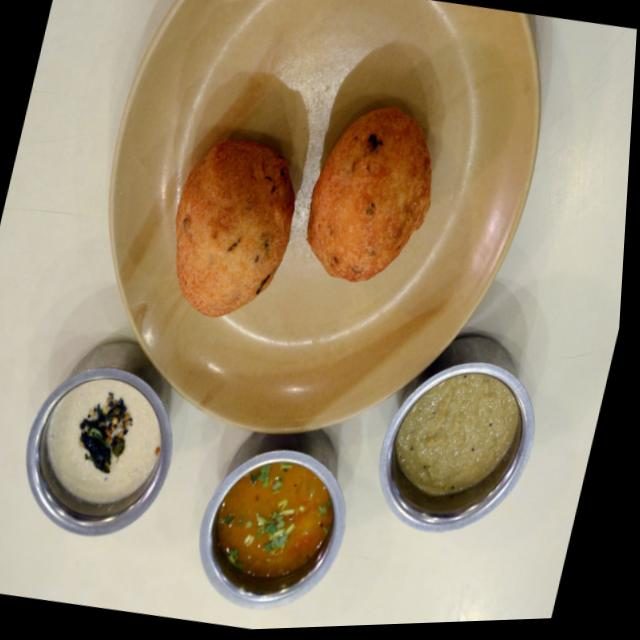BONDA: (175, 103, 433, 317)
GREEN CHUTNEY: (393, 373, 517, 495)
SAMBAR: (214, 458, 333, 579)
WHITE CHUTNEY: (45, 378, 160, 507)
